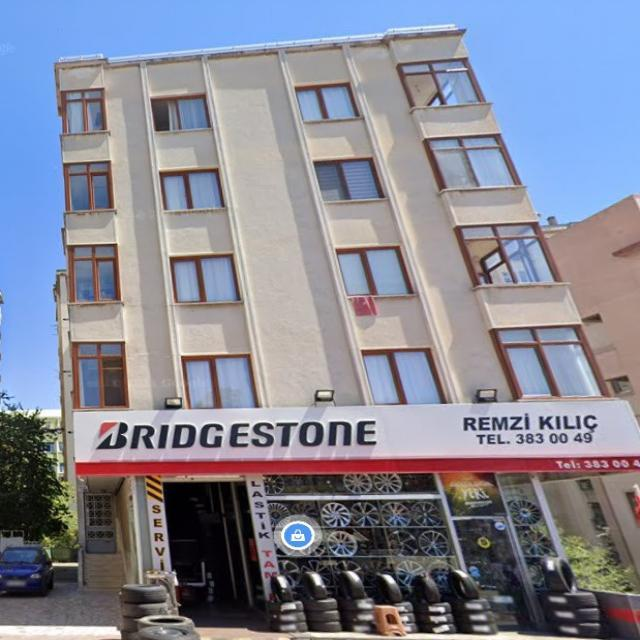Building: (55, 27, 640, 631)
